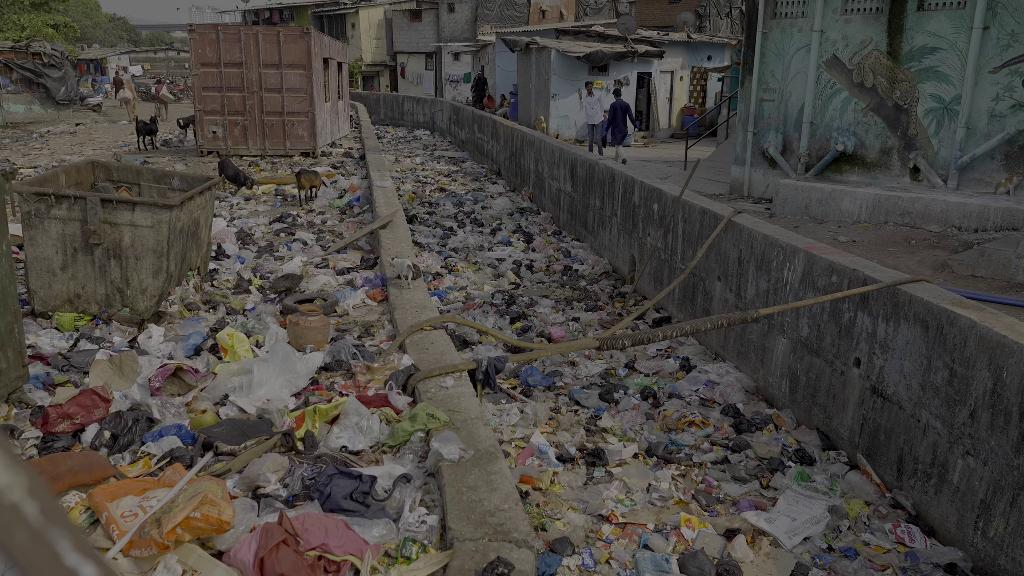dustbin: (11, 150, 222, 320)
garbage: (208, 326, 327, 418), (316, 390, 394, 457), (310, 464, 397, 521), (419, 429, 479, 473), (884, 520, 932, 550), (215, 330, 254, 365), (251, 273, 303, 296), (513, 364, 555, 392), (334, 253, 380, 278), (333, 287, 369, 309), (594, 519, 623, 546), (579, 446, 613, 469), (548, 535, 577, 559), (792, 445, 816, 469), (709, 423, 737, 443), (579, 543, 598, 571), (335, 176, 369, 191), (234, 227, 256, 248), (835, 544, 863, 560), (733, 417, 757, 435), (674, 355, 697, 371), (621, 422, 639, 441), (691, 427, 719, 439), (534, 352, 555, 367), (281, 192, 297, 203), (273, 186, 286, 199)
